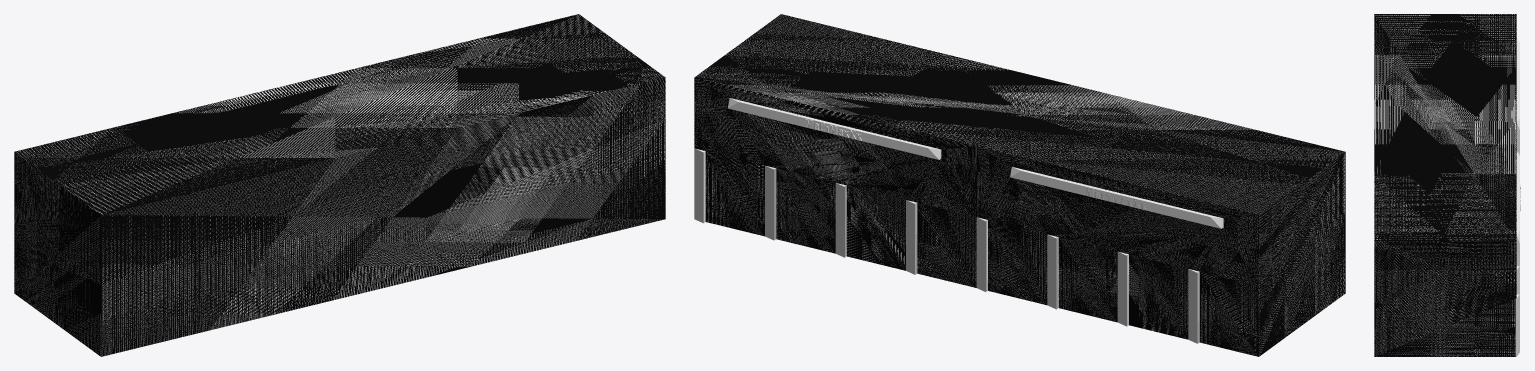
3 renders of one model, left to right at view 1: azimuth 30°, elevation 25°; view 2: azimuth 150°, elevation 25°; view 3: azimuth 270°, elevation 25°, orthographic. The views are drawn at different scales.
Parts seen in each view (by area): view 1: mesh45_mesh45-geometry; view 2: mesh45_mesh45-geometry; view 3: mesh45_mesh45-geometry.
Boxes of the visible parts, bbox=[...] form: mesh45_mesh45-geometry: bbox=[14, 14, 665, 356]; mesh45_mesh45-geometry: bbox=[694, 14, 1345, 356]; mesh45_mesh45-geometry: bbox=[1374, 14, 1519, 356].
Bounding box in the file's own units: 0.9397 × 0.2255 × 0.2571.
